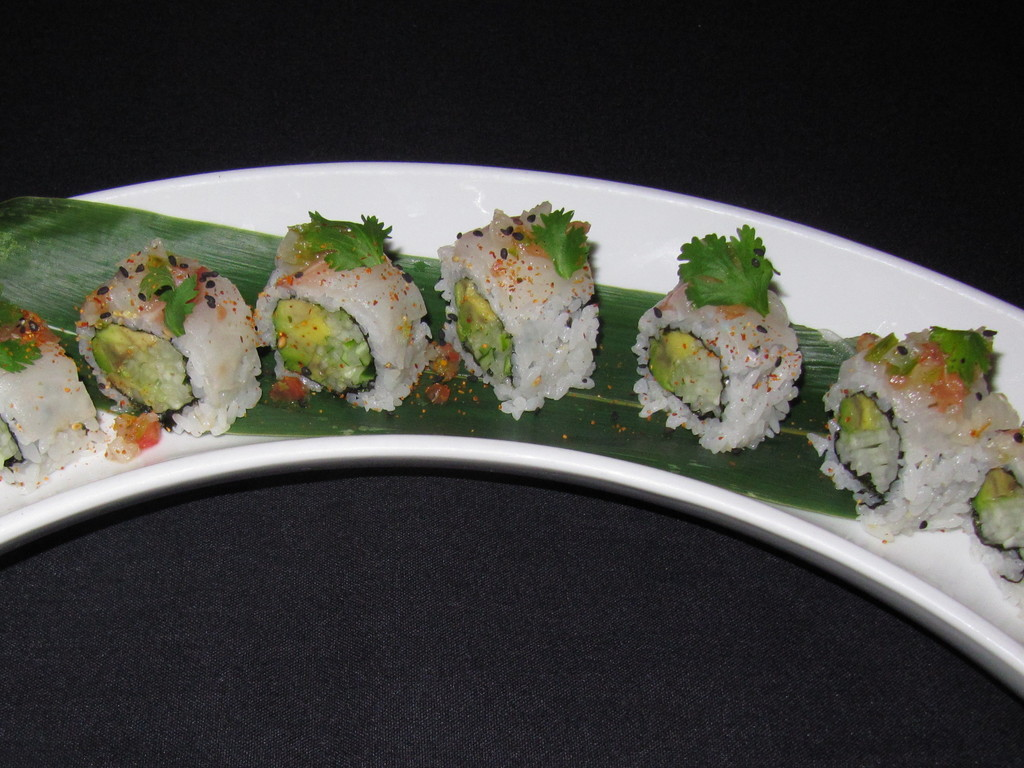sushi: (815, 322, 1023, 541), (633, 229, 799, 454), (253, 212, 435, 409), (75, 243, 253, 437), (445, 199, 598, 408), (0, 303, 108, 487), (961, 446, 1023, 607)
